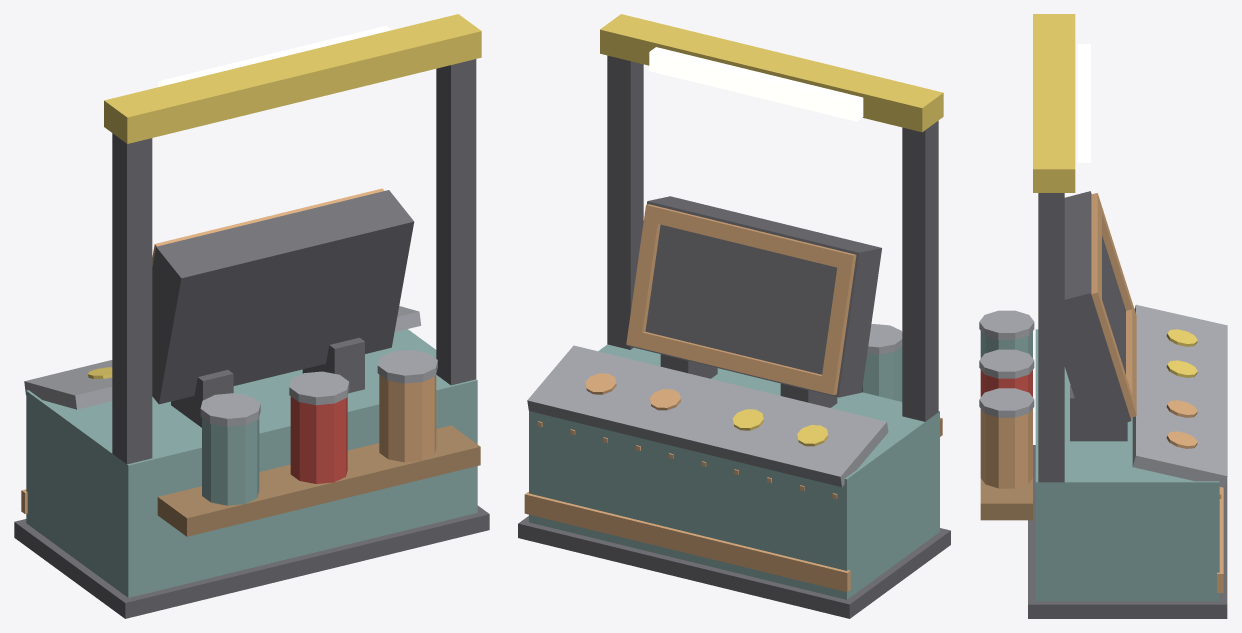
The model's file is mecha_workshop.glb.
3 views of the same model, side by side, from view 1: azimuth 30°, elevation 25°; view 2: azimuth 150°, elevation 25°; view 3: azimuth 270°, elevation 25° (orthographic). The views are drawn at different scales.
Parts seen in each view (by area): view 1: MechaWorkshop; view 2: MechaWorkshop; view 3: MechaWorkshop.
Boxes of the visible parts, x1,y1,x2,y2 form: MechaWorkshop: [14, 14, 489, 618]; MechaWorkshop: [518, 14, 950, 618]; MechaWorkshop: [979, 14, 1227, 618].
Size of the model in its own units: 1.44 by 1.88 by 0.9457.
